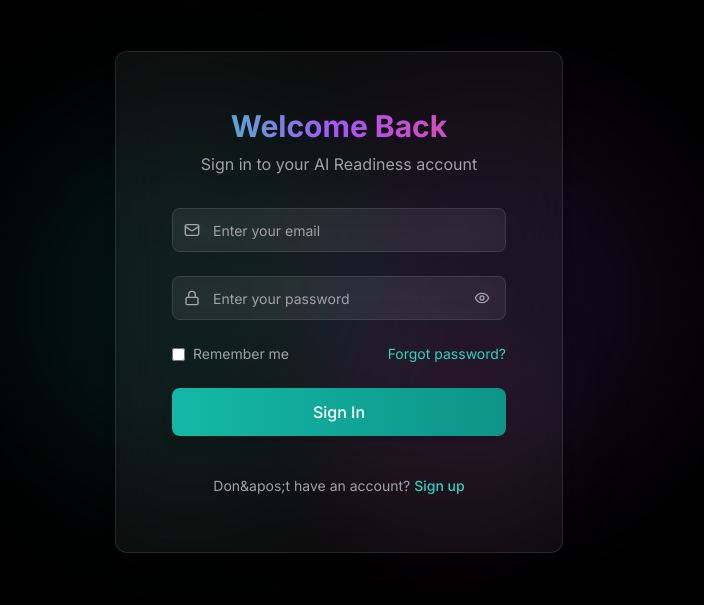
Test: LoginPage › handles login error
Type "test@example.com" into the field with placeholder "Enter your email" at (339, 230), box [172,208,506,252]
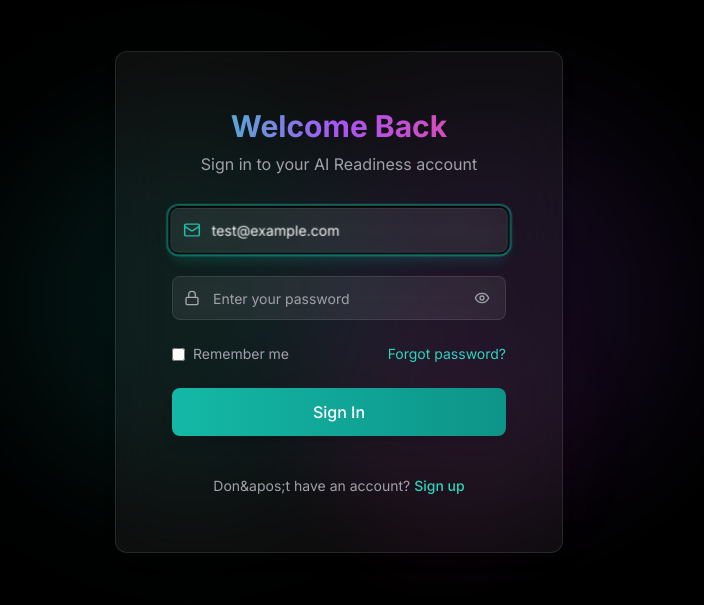
Type "WrongPassword123" into the password field with placeholder "Enter your password" at (339, 298), box [172,276,506,320]
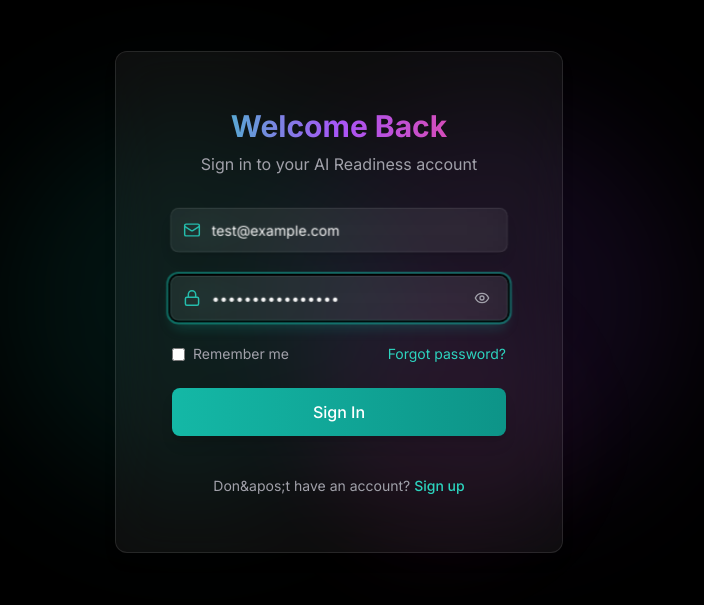
Click the button "Sign In" at (339, 412), box [172,388,506,436]
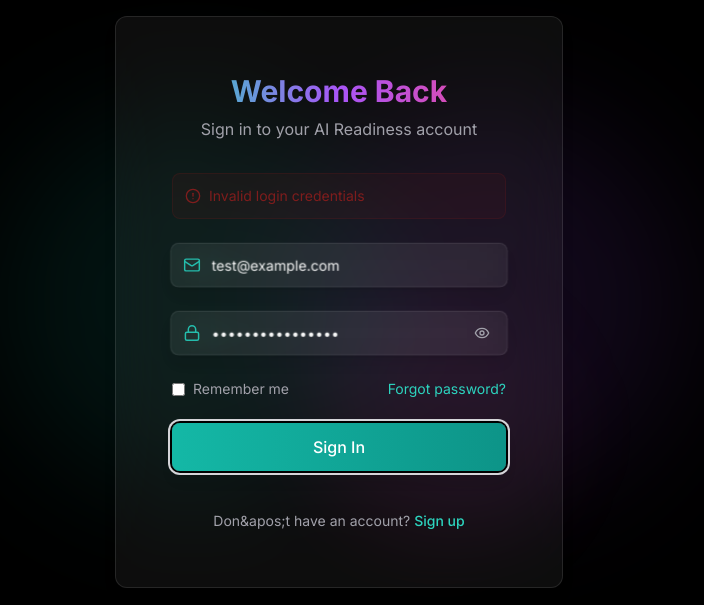
Result: the text "Invalid login credentials" is shown at [209,186,365,206]
